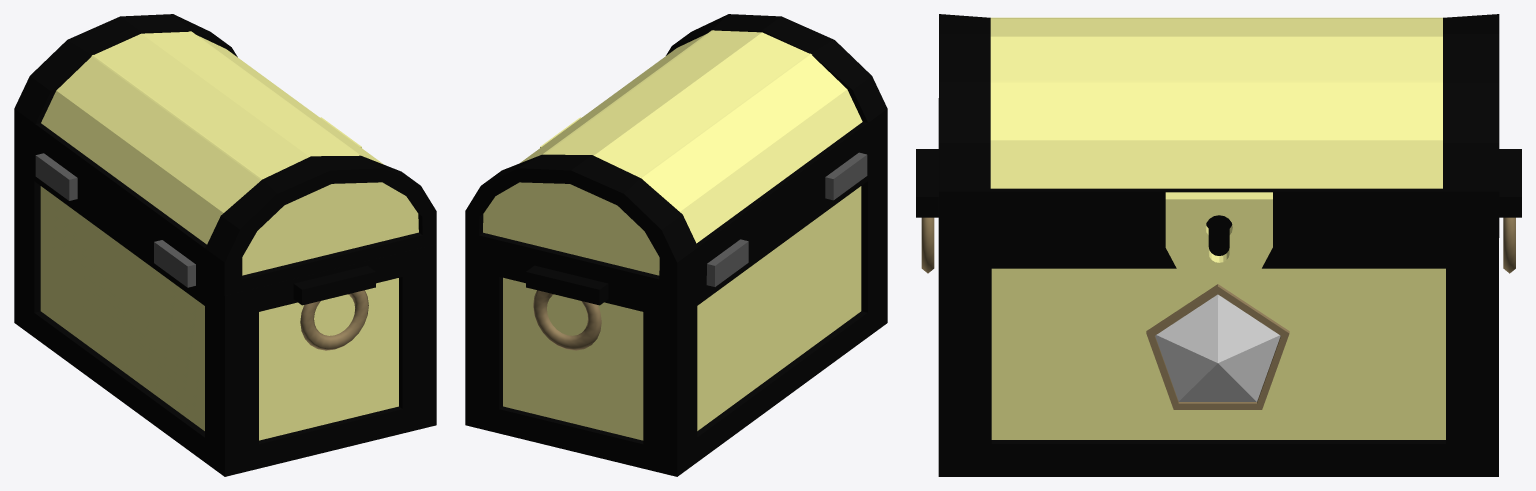
Rendered from Cofre Amarillo.fbx.
3 views of the same model, side by side, from view 1: azimuth 30°, elevation 25°; view 2: azimuth 150°, elevation 25°; view 3: azimuth 270°, elevation 25° (orthographic). The views are drawn at different scales.
Parts seen in each view (by area): view 1: Cube.055, Cube.056; view 2: Cube.055, Cube.056; view 3: Cube.055, Cube.056.
Boxes of the visible parts, bbox=[...] form: Cube.055: bbox=[14, 143, 436, 476]; Cube.056: bbox=[14, 14, 436, 296]; Cube.055: bbox=[465, 143, 887, 476]; Cube.056: bbox=[465, 14, 887, 297]; Cube.055: bbox=[916, 98, 1521, 476]; Cube.056: bbox=[939, 14, 1499, 282].
Size of the model in its own units: 65.74 by 76.41 by 112.
